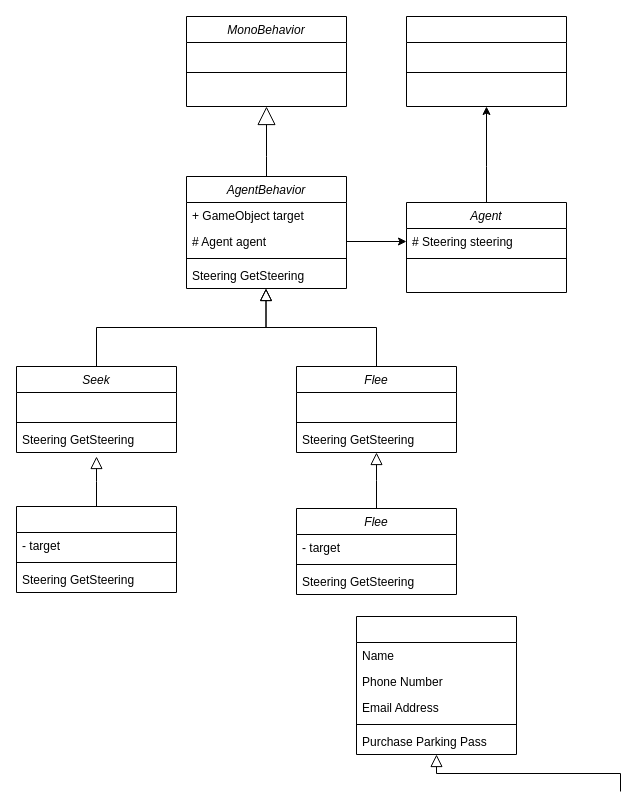
The diagram is 637 pixels wide and 808 high, and some of its shapes have lost their labels. The box of each missing label's shape, as (x1, y1, x2, y2) in pixels:
Person: (356, 616, 516, 754)
Pursue: (16, 506, 176, 592)
Steering: (406, 16, 566, 106)
